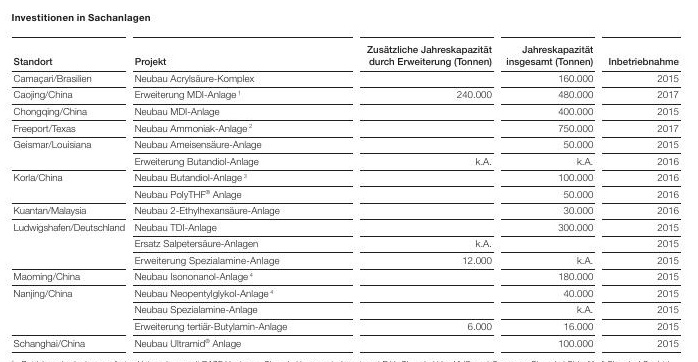table: (0, 0, 698, 362)
